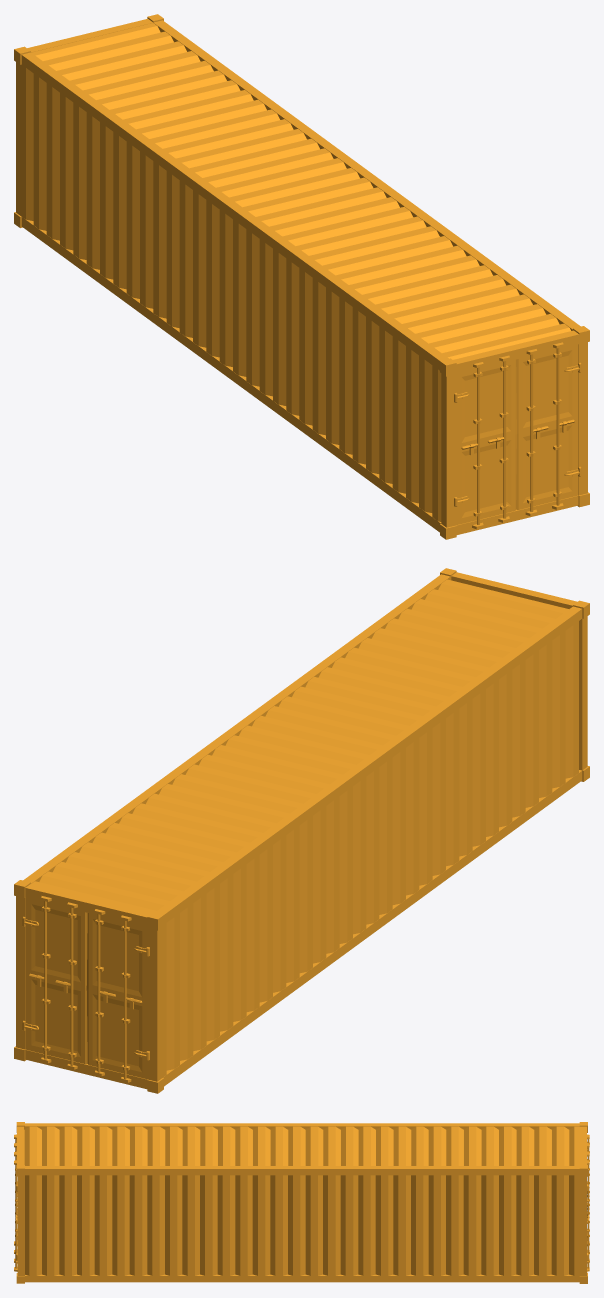
The model's file is SM_Container_Large.fbx.
The picture shows the model from 3 angles, top to bottom: view 1: azimuth 30°, elevation 25°; view 2: azimuth 150°, elevation 25°; view 3: azimuth 270°, elevation 25°; orthographic projection. The views are drawn at different scales.
Parts seen in each view (by area): view 1: SM_Container_Large_Base, SM_Container_Large_Door_LF, SM_Container_Large_Door_RF; view 2: SM_Container_Large_Base, SM_Container_Large_Door_LB, SM_Container_Large_Door_RB; view 3: SM_Container_Large_Base, SM_Container_Large_Door_LB, SM_Container_Large_Door_LF.
Boxes of the visible parts, x1,y1,x2,y2 form: SM_Container_Large_Base: (14, 14, 589, 539); SM_Container_Large_Door_LF: (516, 344, 581, 511); SM_Container_Large_Door_RF: (454, 359, 516, 525); SM_Container_Large_Base: (14, 568, 589, 1093); SM_Container_Large_Door_LB: (22, 898, 87, 1066); SM_Container_Large_Door_RB: (86, 913, 149, 1079); SM_Container_Large_Base: (14, 1122, 589, 1283); SM_Container_Large_Door_LB: (587, 1156, 589, 1268); SM_Container_Large_Door_LF: (15, 1156, 17, 1268).
Size of the model in its own units: 2.69 by 3.12 by 14.11.
